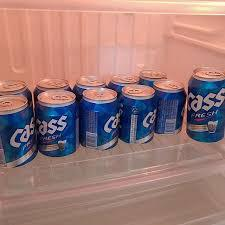beer: (1, 68, 225, 169)
